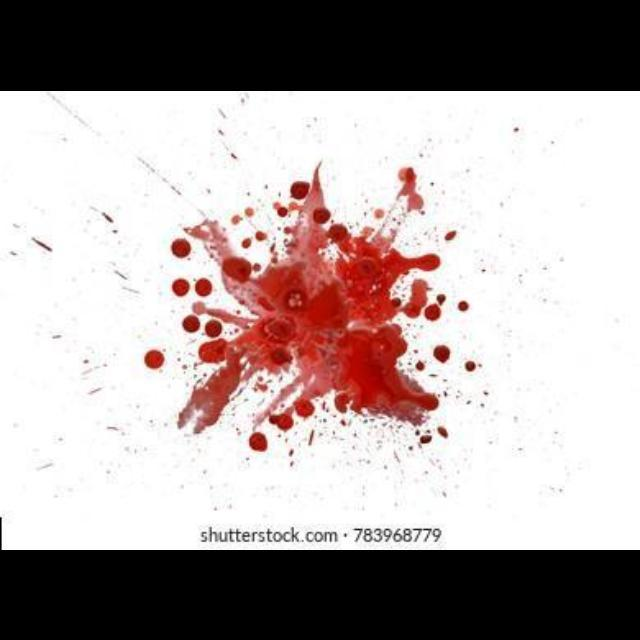blood: (157, 160, 487, 471), (144, 349, 164, 368), (205, 320, 223, 337)
